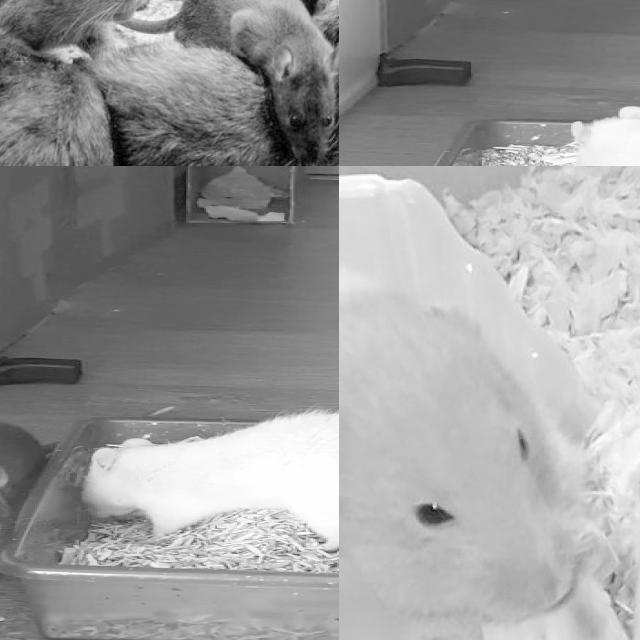rat: (339, 266, 603, 640), (82, 410, 339, 555), (186, 0, 339, 157), (0, 415, 59, 586)
